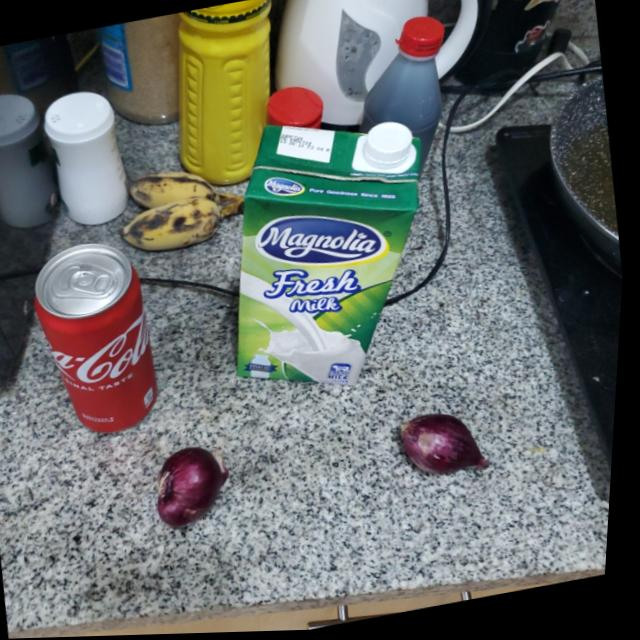coke: (25, 235, 176, 447)
milk: (203, 100, 467, 412)
onion: (151, 441, 241, 538), (399, 406, 499, 490)
